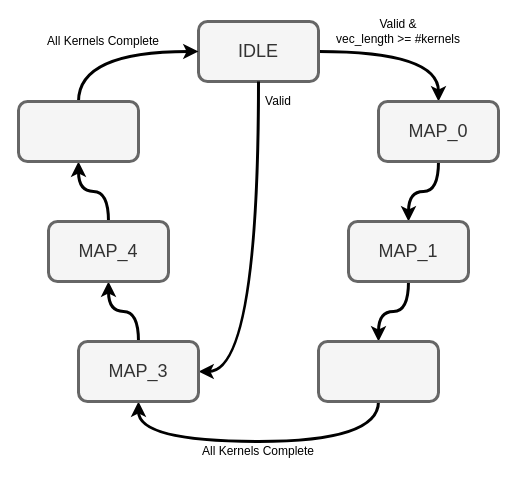
Image size: 517x479. Some labels were removed from this diagram. Here are the shapes that lost their labels. From the top down, the centre of each, then its label:
At point 78,131: "MAP_5".
At point 378,371: "MAP_2".
